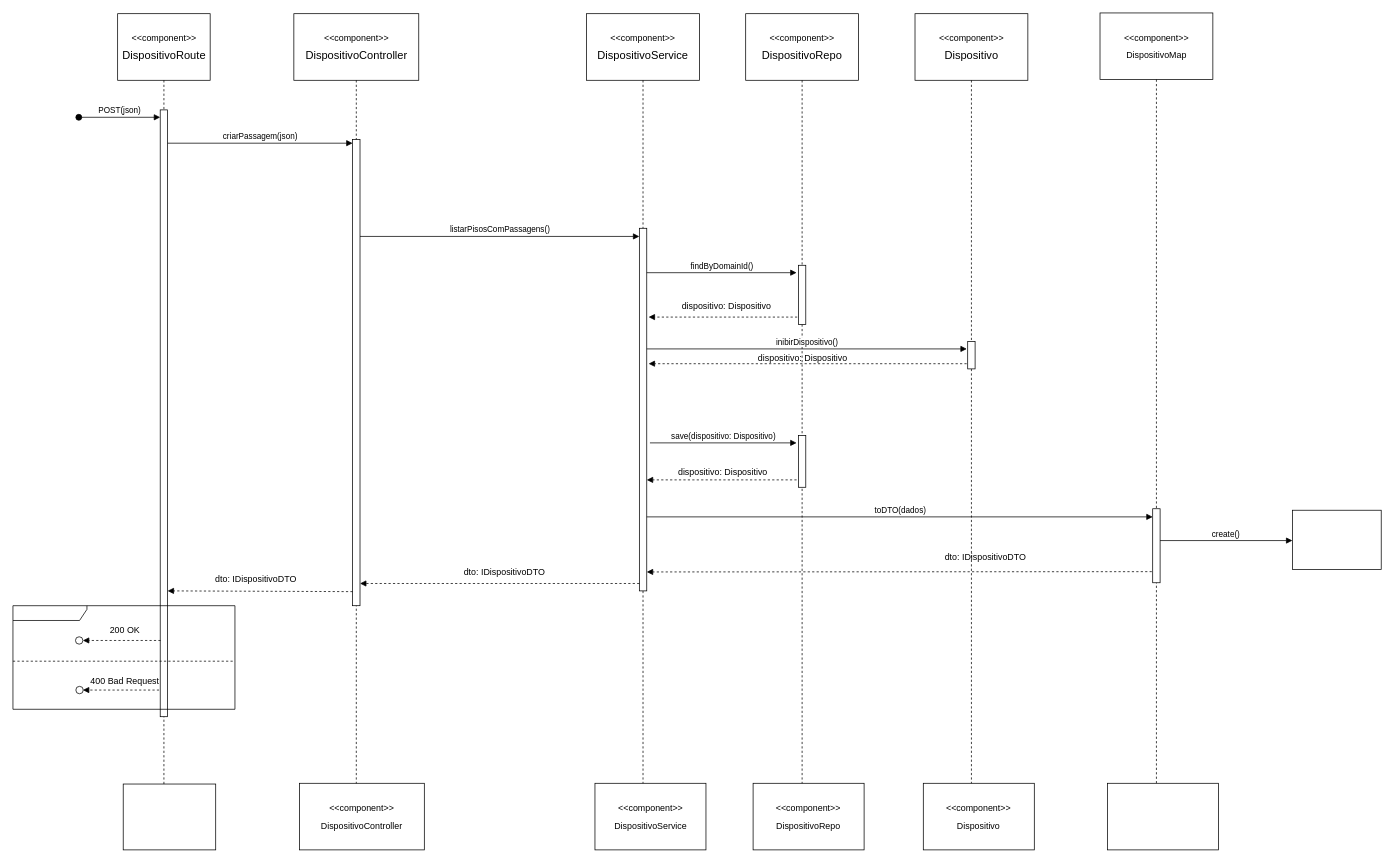
The diagram is 1394 pixels wide and 863 high, and some of its shapes have lost their labels. Here are the shapes that lost their labels. From the top down, the box of each, then its label:
(1292, 509, 1381, 569): <<component>> IDispositivoDTO
(12, 605, 235, 709): alt
(122, 783, 216, 850): <<component>> RoutePassagem
(1107, 783, 1218, 850): <<component>> PassagemMap
